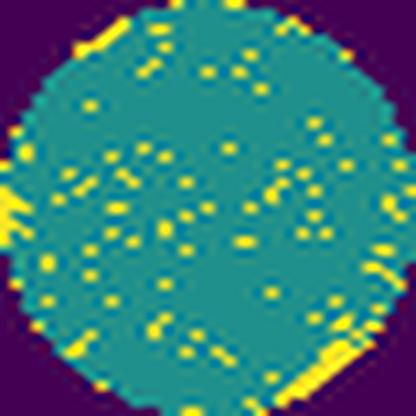Edge-Loc: (267, 313, 388, 409), (0, 162, 40, 255), (72, 12, 136, 63)
